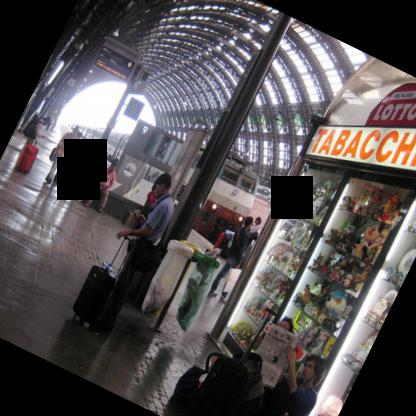backpack: (22, 112, 41, 145)
handbag: (48, 133, 69, 161)
suitcase: (187, 302, 278, 416), (72, 265, 116, 325), (169, 366, 205, 411), (11, 142, 39, 178)
